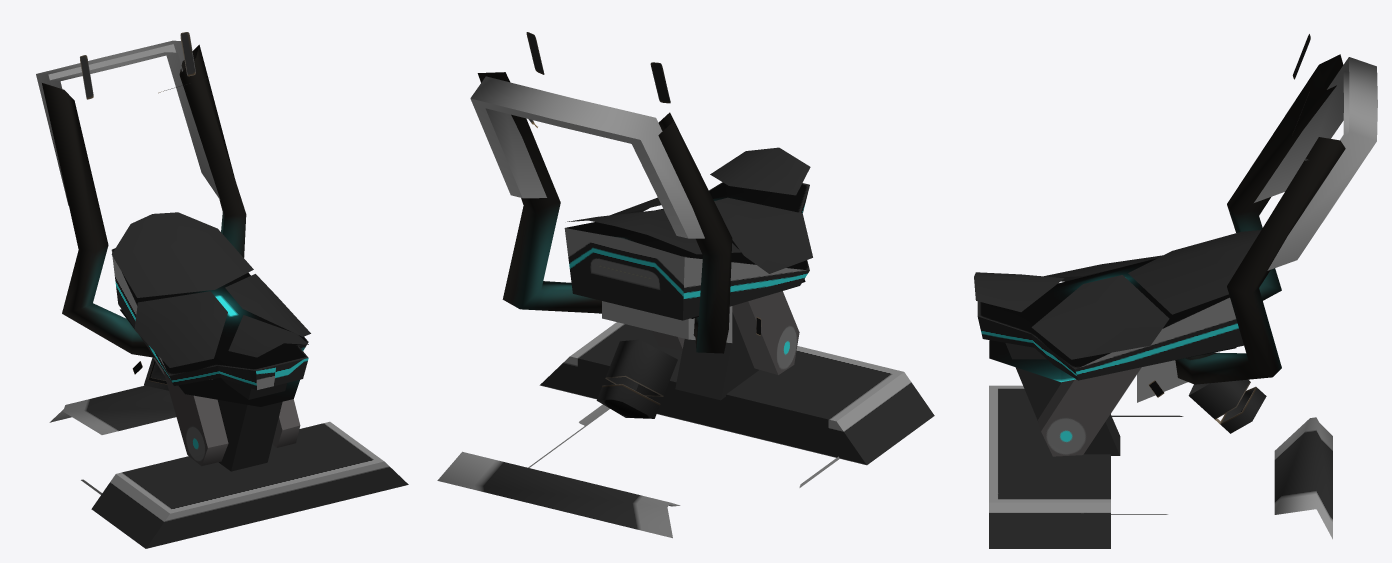
Rendered from obj_interactive_saddle_05_lod1.fbx.
The picture shows the model from 3 angles, left to right: view 1: azimuth 30°, elevation 25°; view 2: azimuth 150°, elevation 25°; view 3: azimuth 270°, elevation 25°; orthographic projection. The views are drawn at different scales.
Visible parts, largest first — view 1: polySurface22; view 2: polySurface22; view 3: polySurface22.
Boxes of the visible parts, bbox=[...] form: polySurface22: bbox=[36, 32, 408, 548]; polySurface22: bbox=[437, 32, 934, 538]; polySurface22: bbox=[974, 34, 1377, 548].
Size of the model in its own units: 2.77 by 3.83 by 3.38.
Materials: 1 (1 with a texture image).
